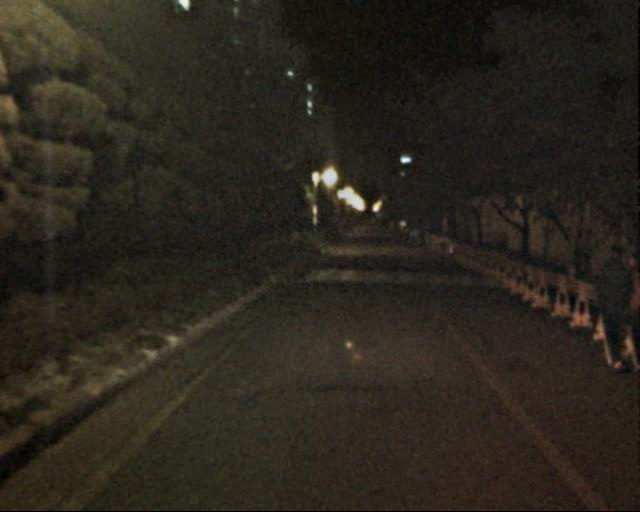person: (582, 243, 640, 373)
